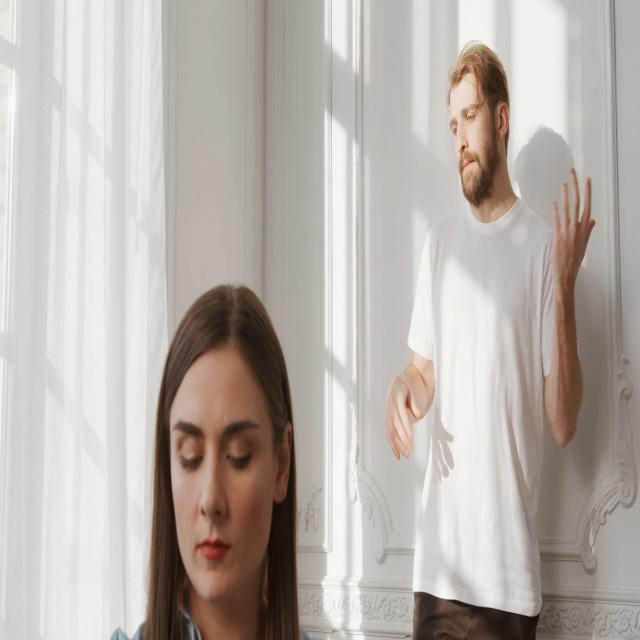confused: (439, 26, 518, 212)
sad: (167, 325, 291, 608)
